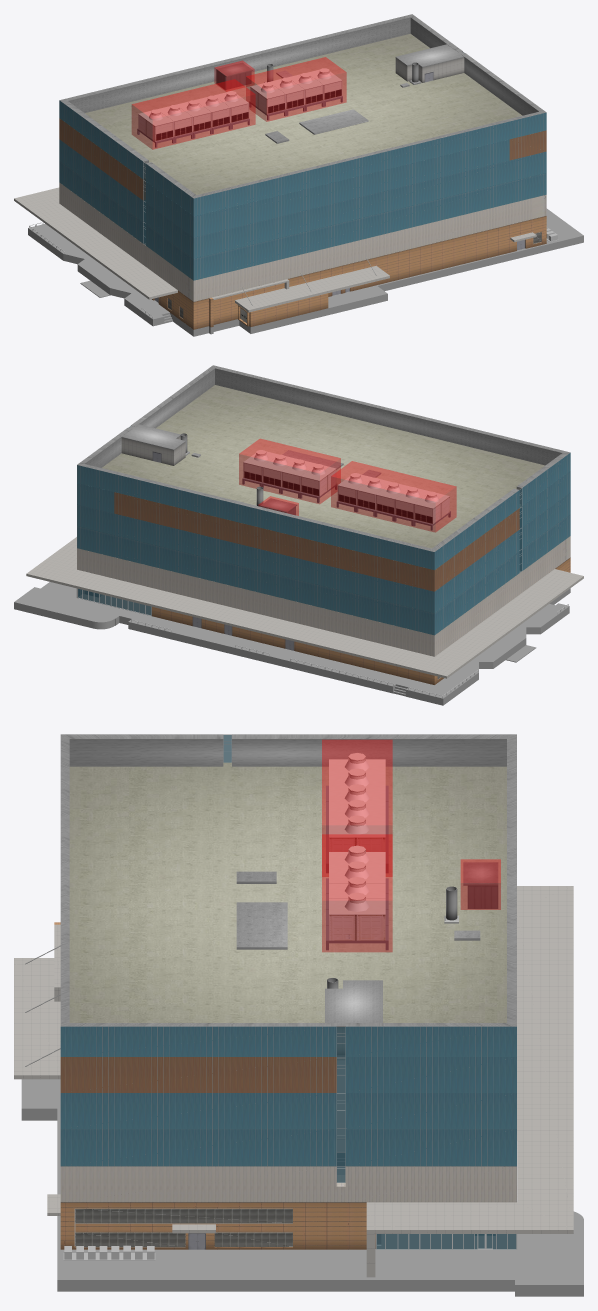
The picture shows the model from 3 angles, top to bottom: view 1: azimuth 30°, elevation 25°; view 2: azimuth 150°, elevation 25°; view 3: azimuth 270°, elevation 25°; orthographic projection. The views are drawn at different scales.
Parts seen in each view (by area): view 1: Line2242, Line2223, Line2235, Group1693, PD2-1F, Line1629, equipment-PD2-OUT-003, equipment-PD2-OUT-002, Line1646, Rectangle1261, Line2247, Polyline (4) (+14 smaller); view 2: Line2242, Line2223, Line2235, Line1646, Line1629, Line2247, equipment-PD2-OUT-003, equipment-PD2-OUT-002, PD2-1F, Group1693, PD2-out-06, PD2-out-01 (+14 smaller); view 3: Line2223, Line2242, Line2235, Line1629, Line1646, Group1693, PD2-1F, equipment-PD2-OUT-002, equipment-PD2-OUT-003, Line2247, Rectangle1261, Box2777 (+17 smaller).
Part boxes in pixels (x1,y1,x2,y2): Line2242: (59,118,546,280); Line2223: (85,33,522,194); Line2235: (59,14,546,216); Group1693: (59,182,546,301); PD2-1F: (152,216,546,329); Line1629: (28,208,583,336); equipment-PD2-OUT-003: (132,79,255,149); equipment-PD2-OUT-002: (246,57,346,121); Line1646: (14,187,177,299); Rectangle1261: (235,265,389,312); Line2247: (59,183,143,264); Polyline (4): (265,70,421,143); Line2242: (77,471,570,635); Line2223: (102,385,544,548); Line2235: (77,365,570,570); Line1646: (26,537,583,678); Line1629: (14,582,570,705); Line2247: (77,548,519,656); equipment-PD2-OUT-003: (331,461,456,532); equipment-PD2-OUT-002: (239,439,340,503); PD2-1F: (152,557,570,684); Group1693: (79,536,570,635); PD2-out-06: (299,464,336,502); PD2-out-01: (413,491,450,530); Line2223: (69,762,506,1022); Line2242: (60,1057,516,1166); Line2235: (60,734,516,1056); Line1629: (21,1079,583,1296); Line1646: (375,886,573,1233); Group1693: (60,1166,516,1202); PD2-1F: (47,922,375,1277); equipment-PD2-OUT-002: (322,834,392,951); equipment-PD2-OUT-003: (322,740,392,876); Line2247: (345,1166,516,1202); Rectangle1261: (14,958,60,1079); Box2777: (75,1208,292,1223).
Size of the model in its own units: 95.48 by 32.86 by 65.26.
35 materials, 24 textured.
